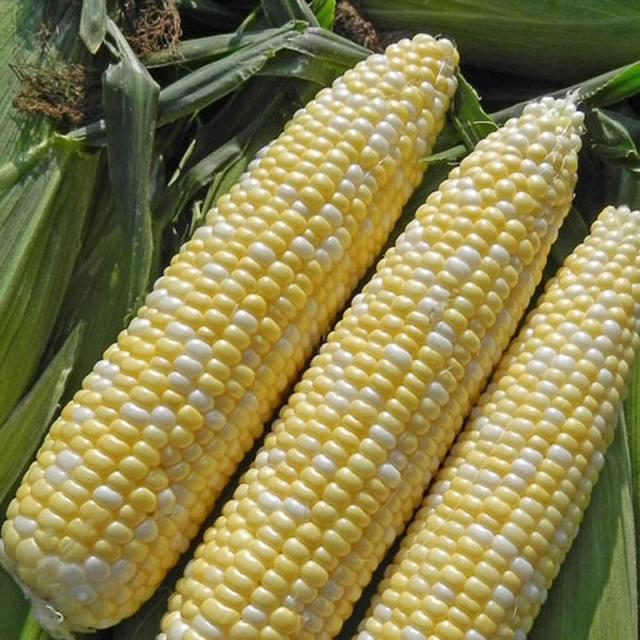corn: (0, 29, 483, 638), (150, 96, 598, 640), (328, 201, 640, 640)
